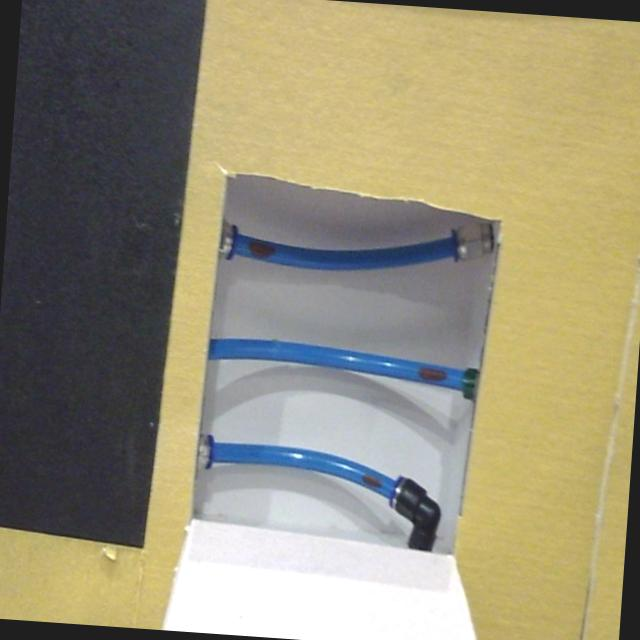hose_damage: (356, 467, 388, 493), (417, 364, 449, 384), (246, 240, 276, 260)
